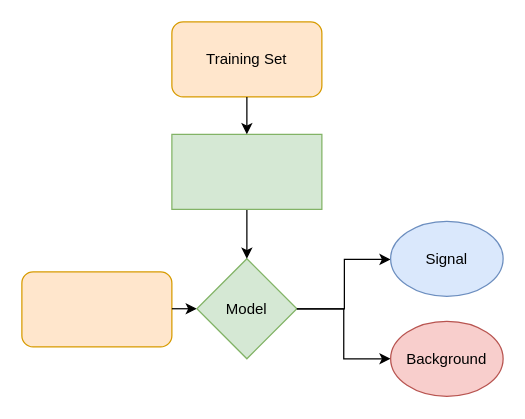
This 525x419 diagram has some shape labels left out. The centre of each missing label's shape, as x and y in pixels:
"Input Variables" belongs at (96,309).
"Learning Algorithm" belongs at (246,171).
